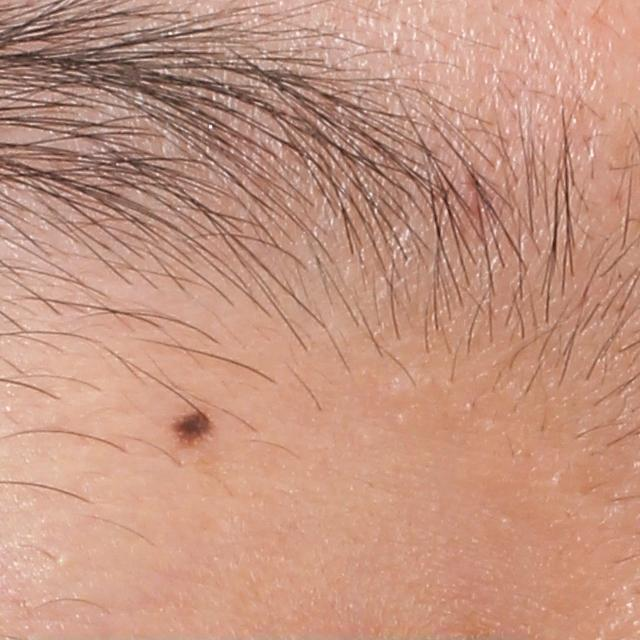nevus: (168, 406, 218, 453)
